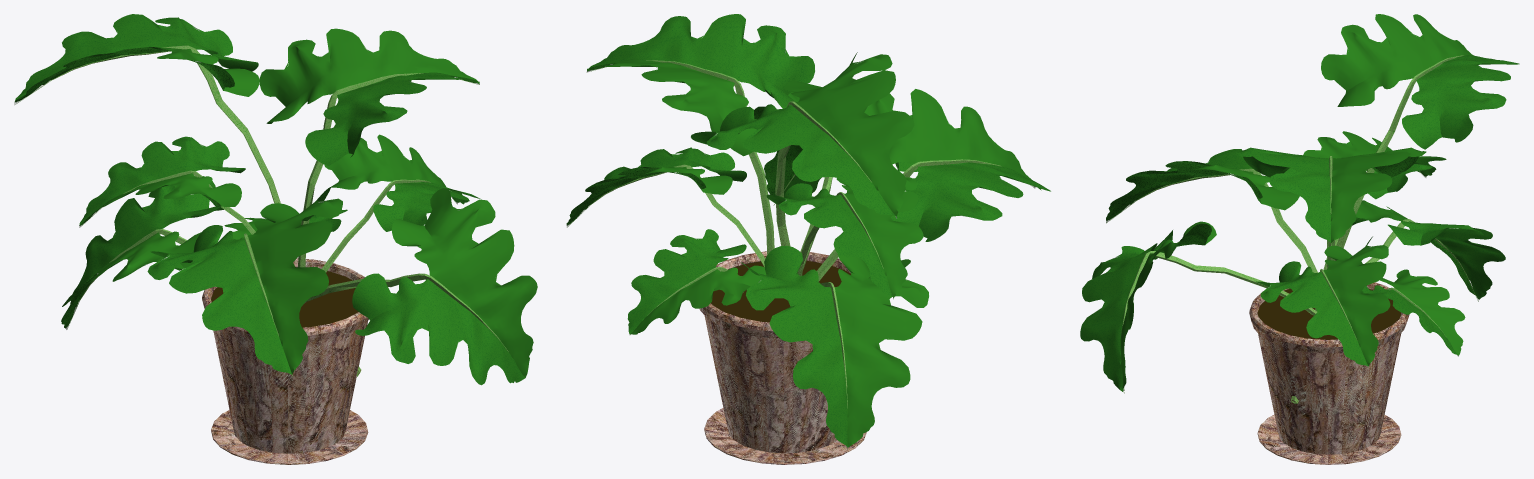
3 renders of one model, left to right at view 1: azimuth 30°, elevation 25°; view 2: azimuth 150°, elevation 25°; view 3: azimuth 270°, elevation 25°, orthographic. The views are drawn at different scales.
Parts seen in each view (by area): view 1: P.selloum (×14), group_1, group_0 (×4), group_2; view 2: P.selloum (×15), group_1, group_0 (×5), group_2; view 3: P.selloum (×16), group_1, group_0 (×3), group_2.
Part boxes in pixels (x1,y1,x2,y2): P.selloum (×14): [14, 14, 537, 385]; group_1: [202, 258, 368, 464]; group_0 (×4): [15, 45, 508, 351]; group_2: [211, 267, 358, 327]; P.selloum (×15): [566, 14, 1050, 447]; group_1: [699, 251, 866, 464]; group_0 (×5): [567, 60, 1034, 281]; group_2: [711, 261, 850, 322]; P.selloum (×16): [1080, 14, 1519, 391]; group_1: [1249, 282, 1409, 464]; group_0 (×3): [1106, 55, 1463, 393]; group_2: [1257, 289, 1401, 339].
Size of the model in its own units: 40.55 by 44.08 by 40.59.
